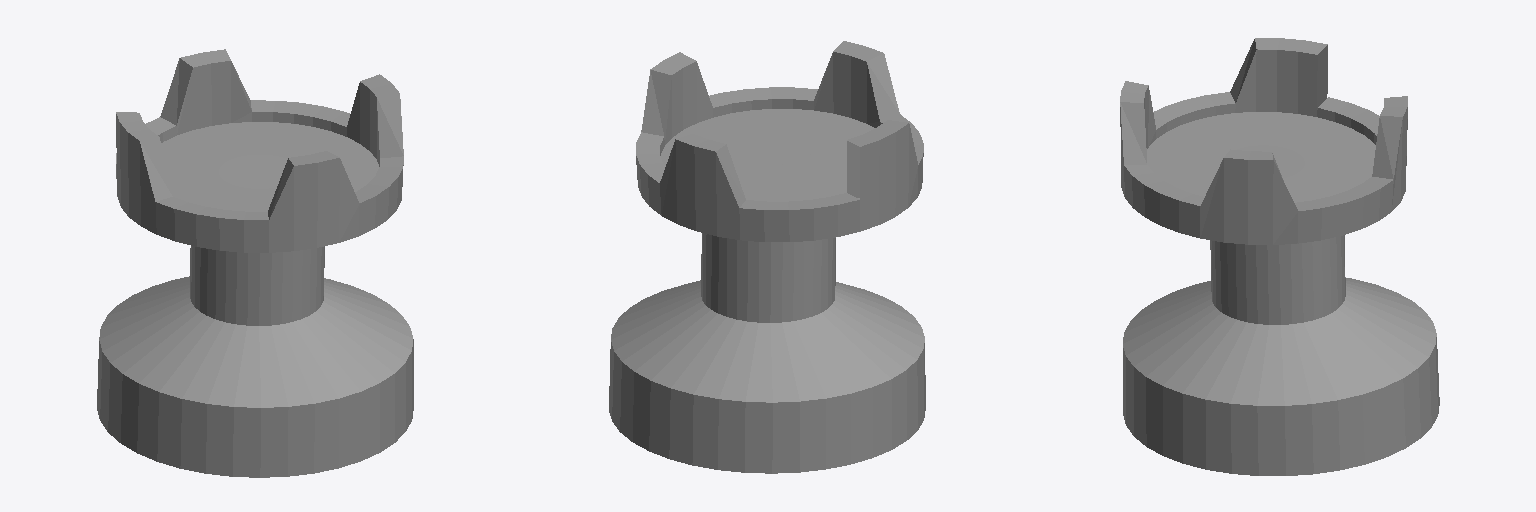
Rendered from whiterook.obj.
3 renders of one model, left to right at view 1: azimuth 30°, elevation 25°; view 2: azimuth 150°, elevation 25°; view 3: azimuth 270°, elevation 25°, orthographic.
Parts seen in each view (by area): view 1: Cube; view 2: Cube; view 3: Cube.
Part boxes in pixels (x1,y1,x2,y2): Cube: (97,49,413,477); Cube: (609,41,925,473); Cube: (1120,38,1439,475).
Bounding box in the file's own units: 2.58 × 2.8 × 2.6.